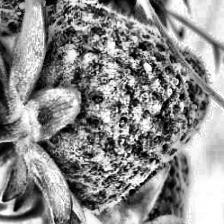Powdery Mildew Fruit: (9, 0, 211, 216), (0, 0, 104, 36), (0, 18, 17, 178)
